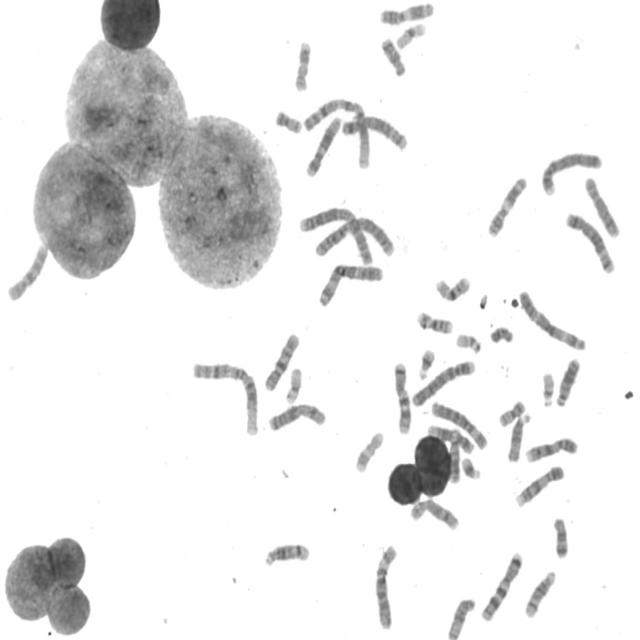A1: (299, 92, 373, 172), (188, 356, 260, 437)
A2: (297, 204, 397, 260), (296, 201, 376, 266)
A3: (514, 284, 588, 352), (314, 258, 386, 308)
B4: (408, 354, 477, 408), (538, 146, 604, 197)
B5: (562, 207, 616, 275), (338, 110, 409, 153)
C10: (4, 238, 49, 303), (261, 328, 301, 393)
C11: (484, 171, 528, 239), (376, 0, 436, 26)
C12: (302, 111, 342, 178), (425, 420, 475, 455)
C6: (427, 397, 490, 451), (370, 539, 400, 631)
C7: (477, 547, 525, 623), (390, 357, 413, 436)
C8: (581, 171, 622, 240), (406, 494, 461, 532)
C9: (512, 461, 566, 509), (522, 432, 579, 464)
D13: (552, 353, 582, 408), (446, 436, 462, 484)
D14: (521, 565, 557, 620), (260, 537, 311, 568)
D15: (503, 408, 532, 464), (444, 594, 477, 640)
E16: (432, 271, 472, 303), (412, 306, 454, 336)
E17: (352, 426, 386, 475), (290, 35, 312, 93)
E18: (377, 32, 408, 78), (549, 512, 570, 560)
F19: (392, 18, 428, 50), (281, 363, 303, 405)
F20: (495, 395, 527, 429), (271, 104, 304, 135)
G21: (414, 343, 437, 381), (458, 453, 483, 481)
G22: (452, 328, 482, 354), (538, 367, 556, 409)
X: (264, 398, 328, 433)
